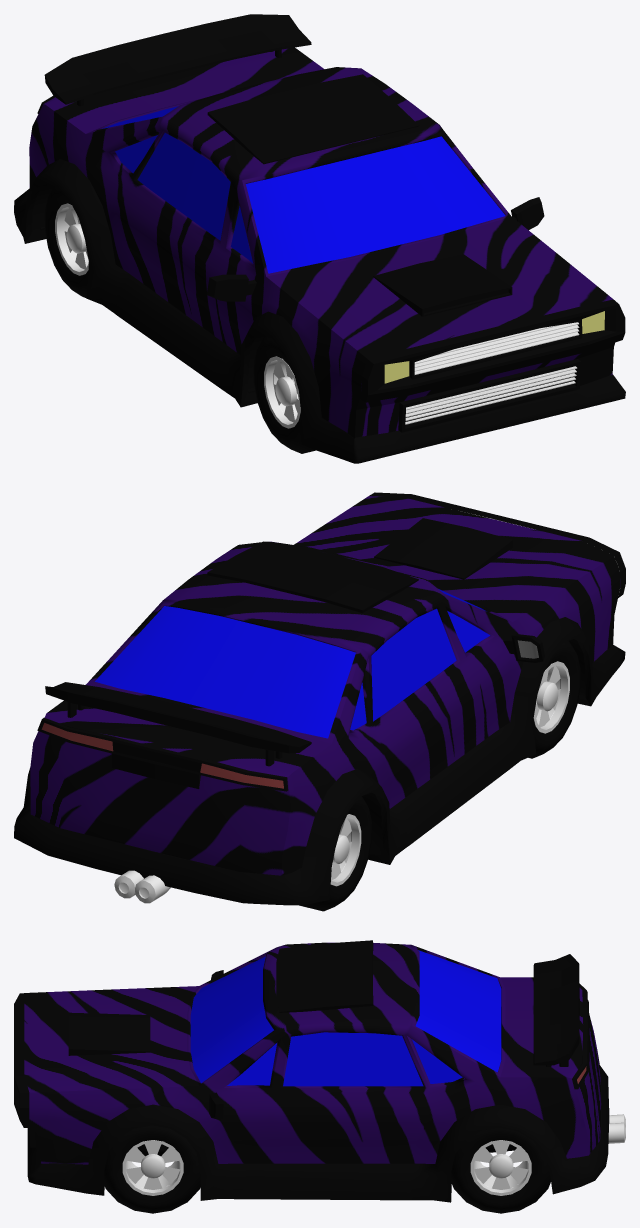
File: Muscle Evolution3 Black ZebraBlackPurple Blue White.glb
3 renders of one model, top to bottom at view 1: azimuth 30°, elevation 25°; view 2: azimuth 150°, elevation 25°; view 3: azimuth 270°, elevation 25°, orthographic. The views are drawn at different scales.
Visible parts, largest first — view 1: evo3_body1_f1_dupl, evo3_sill3_f1_dupl, evo3_frontGlass_f1_dupl, evo3_rooftop3_f1_dupl, evo3_spoiler3_f1_dupl, evo3_frontBlockGrid3_f1_dupl, evo3_glasseBigR_f1_dupl, evo3_airtrap_front4_f1_dupl, evo3_blockgrid3_f1_dupl, evo3_gridfrontbot3_f1_dupl, evo3_gridfrontup3_f1_dupl, evo3_tire_rf1_f1_dupl (+6 smaller); view 2: evo3_body1_f1_dupl, evo3_sill3_f1_dupl, evo3_BackGlassGlass_f1_dupl, evo3_rooftop3_f1_dupl, evo3_spoiler3_f1_dupl, evo3_glasseBigR_f1_dupl, evo3_airtrap_front4_f1_dupl, evo3_blockbacklight_f1_dupl, evo3_rim_A_rf_f1_dupl, evo3_tire_rf1_f1_dupl, evo3_tire_rf_f1_dupl, evo3_frontBlockGrid3_f1_dupl (+6 smaller); view 3: evo3_body1_f1_dupl, evo3_sill3_f1_dupl, evo3_BackGlassGlass_f1_dupl, evo3_glasseBigL_f1_dupl, evo3_frontGlass_f1_dupl, evo3_rooftop3_f1_dupl, evo3_spoiler3_f1_dupl, evo3_tire_lf_f1_dupl, evo3_tire_lb_f1_dupl, evo3_airtrap_front4_f1_dupl, evo3_rim_A_lf_f1_dupl, evo3_rim_A_lb_f1_dupl (+5 smaller).
Part boxes in pixels (x1,y1,x2,y2): evo3_body1_f1_dupl: (29, 47, 614, 438); evo3_sill3_f1_dupl: (14, 159, 625, 463); evo3_frontGlass_f1_dupl: (246, 136, 505, 273); evo3_rooftop3_f1_dupl: (207, 74, 419, 164); evo3_spoiler3_f1_dupl: (44, 14, 311, 106); evo3_frontBlockGrid3_f1_dupl: (360, 299, 625, 402); evo3_glasseBigR_f1_dupl: (137, 133, 230, 240); evo3_airtrap_front4_f1_dupl: (373, 254, 512, 316); evo3_blockgrid3_f1_dupl: (398, 359, 581, 432); evo3_gridfrontbot3_f1_dupl: (405, 366, 577, 424); evo3_gridfrontup3_f1_dupl: (414, 322, 579, 374); evo3_tire_rf1_f1_dupl: (253, 336, 315, 453); evo3_body1_f1_dupl: (30, 496, 620, 875); evo3_sill3_f1_dupl: (14, 617, 625, 905); evo3_BackGlassGlass_f1_dupl: (95, 606, 355, 738); evo3_rooftop3_f1_dupl: (207, 541, 418, 613); evo3_spoiler3_f1_dupl: (45, 682, 311, 766); evo3_glasseBigR_f1_dupl: (371, 608, 456, 721); evo3_airtrap_front4_f1_dupl: (374, 518, 512, 579); evo3_blockbacklight_f1_dupl: (37, 718, 288, 791); evo3_rim_A_rf_f1_dupl: (533, 661, 569, 733); evo3_tire_rf1_f1_dupl: (528, 641, 580, 758); evo3_tire_rf_f1_dupl: (299, 796, 371, 911); evo3_frontBlockGrid3_f1_dupl: (369, 492, 625, 597); evo3_body1_f1_dupl: (24, 942, 601, 1164); evo3_sill3_f1_dupl: (27, 1065, 609, 1202); evo3_BackGlassGlass_f1_dupl: (415, 950, 501, 1072); evo3_glasseBigL_f1_dupl: (283, 1032, 423, 1086); evo3_frontGlass_f1_dupl: (190, 956, 273, 1083); evo3_rooftop3_f1_dupl: (276, 940, 373, 1012); evo3_spoiler3_f1_dupl: (533, 954, 579, 1066); evo3_tire_lf_f1_dupl: (104, 1125, 200, 1213); evo3_tire_lb_f1_dupl: (451, 1127, 550, 1213); evo3_airtrap_front4_f1_dupl: (68, 1012, 150, 1055); evo3_rim_A_lf_f1_dupl: (122, 1140, 183, 1195); evo3_rim_A_lb_f1_dupl: (470, 1140, 531, 1195).
Size of the model in its own units: 177 by 116 by 335.
Materials: 8 (1 with a texture image).
